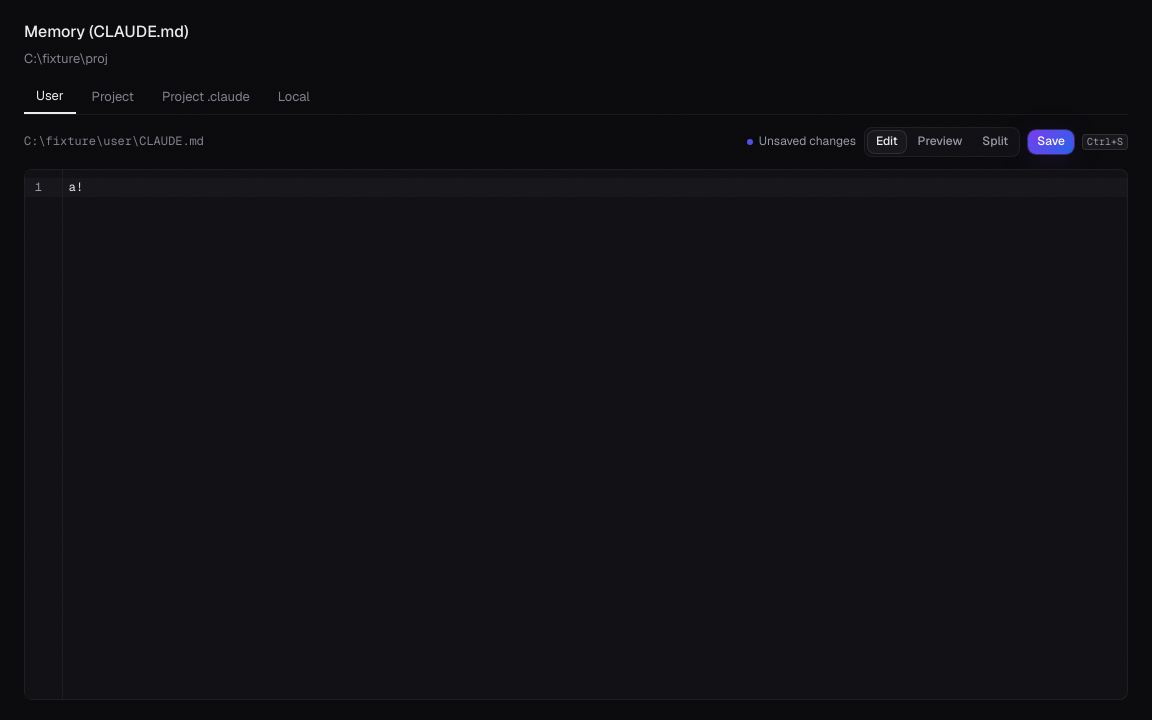
Test: MemoryPage › shows the conflict banner and Overwrite re-writes with the current hash
Click the button "Save" at (1051, 142), box x1=1028 y1=130 x2=1074 y2=154
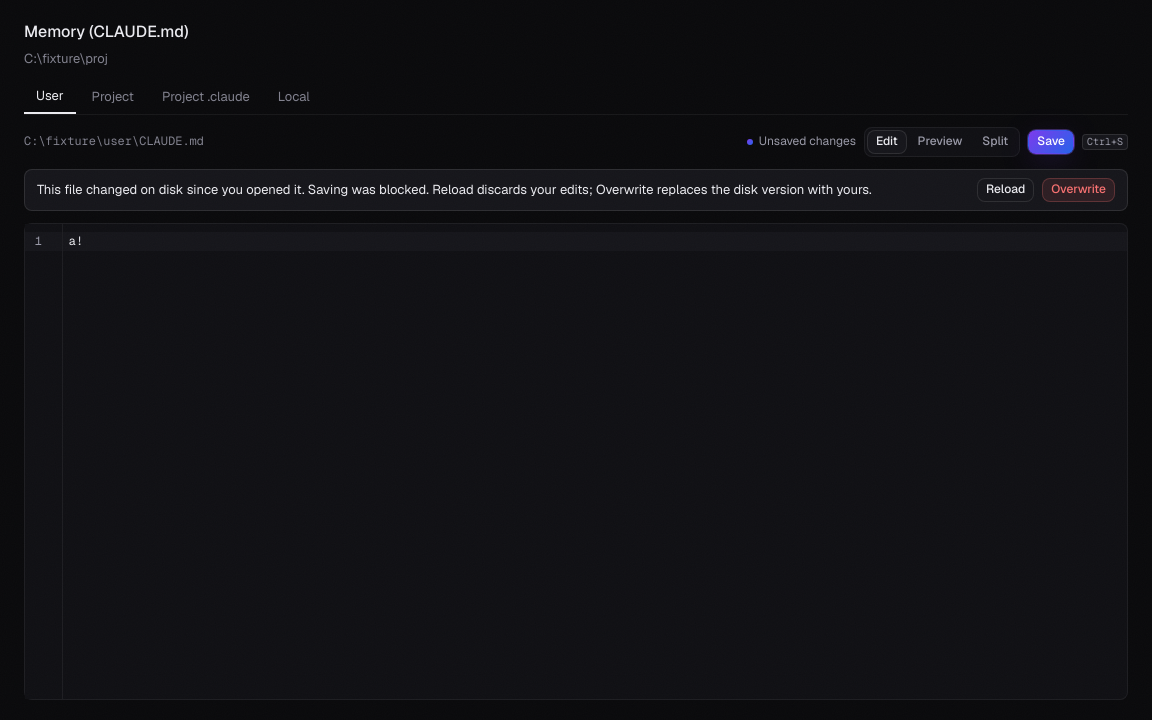
Result: the message shows "changed on disk" at x1=37 y1=181 x2=429 y2=198
Click the button "Overwrite" at (1079, 190), box x1=1042 y1=178 x2=1115 y2=202
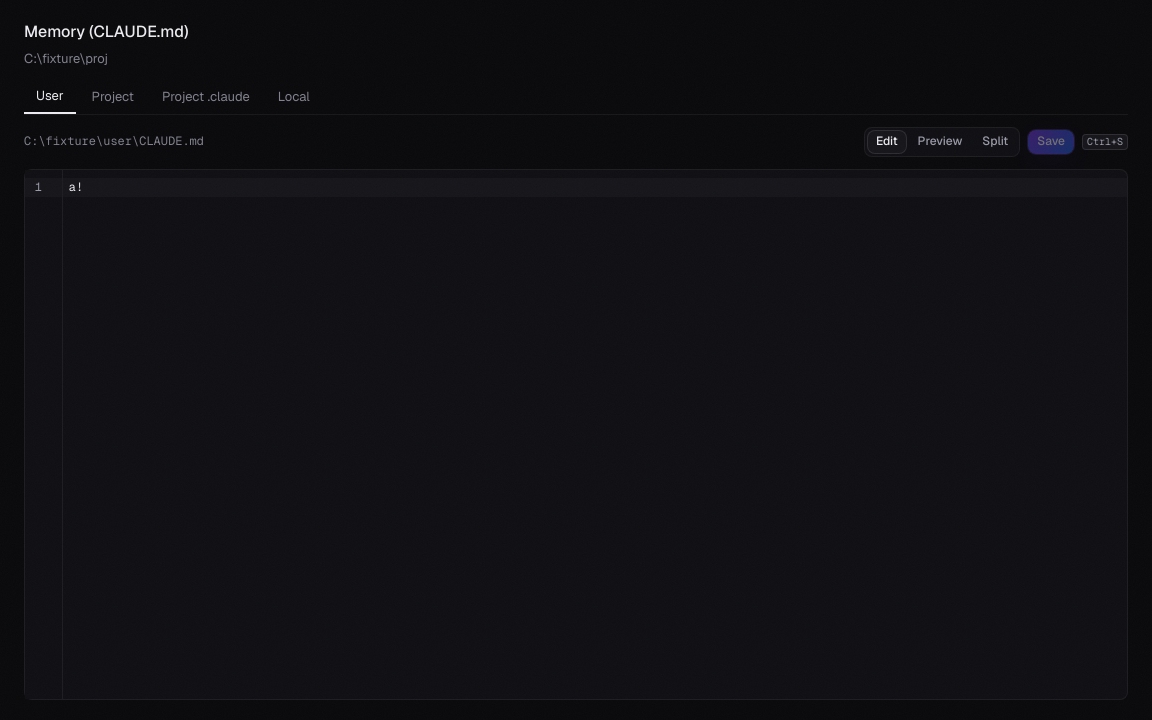
Result: the message is gone
